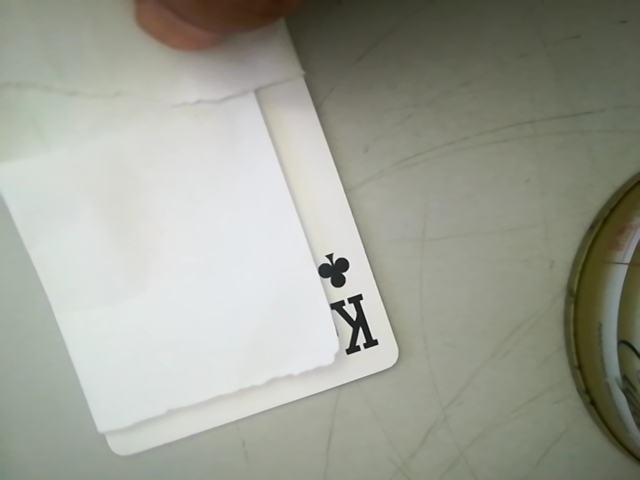mh k: (310, 235, 387, 366)
